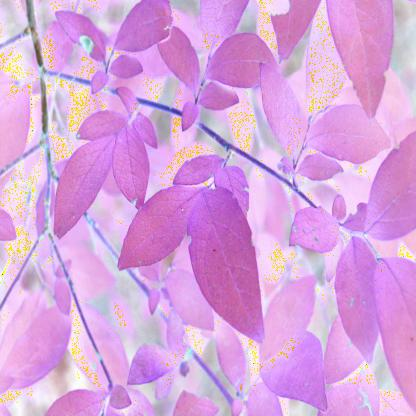blueberry leaf: (184, 185, 268, 346), (113, 179, 206, 277), (49, 131, 117, 245), (2, 297, 75, 400), (303, 98, 402, 168), (371, 253, 416, 407), (254, 324, 332, 410), (332, 226, 380, 364), (255, 56, 309, 165), (367, 134, 416, 244), (200, 38, 283, 90), (113, 121, 152, 208), (153, 25, 199, 98), (286, 202, 344, 255), (197, 83, 243, 120), (181, 99, 200, 138), (332, 193, 348, 225)
